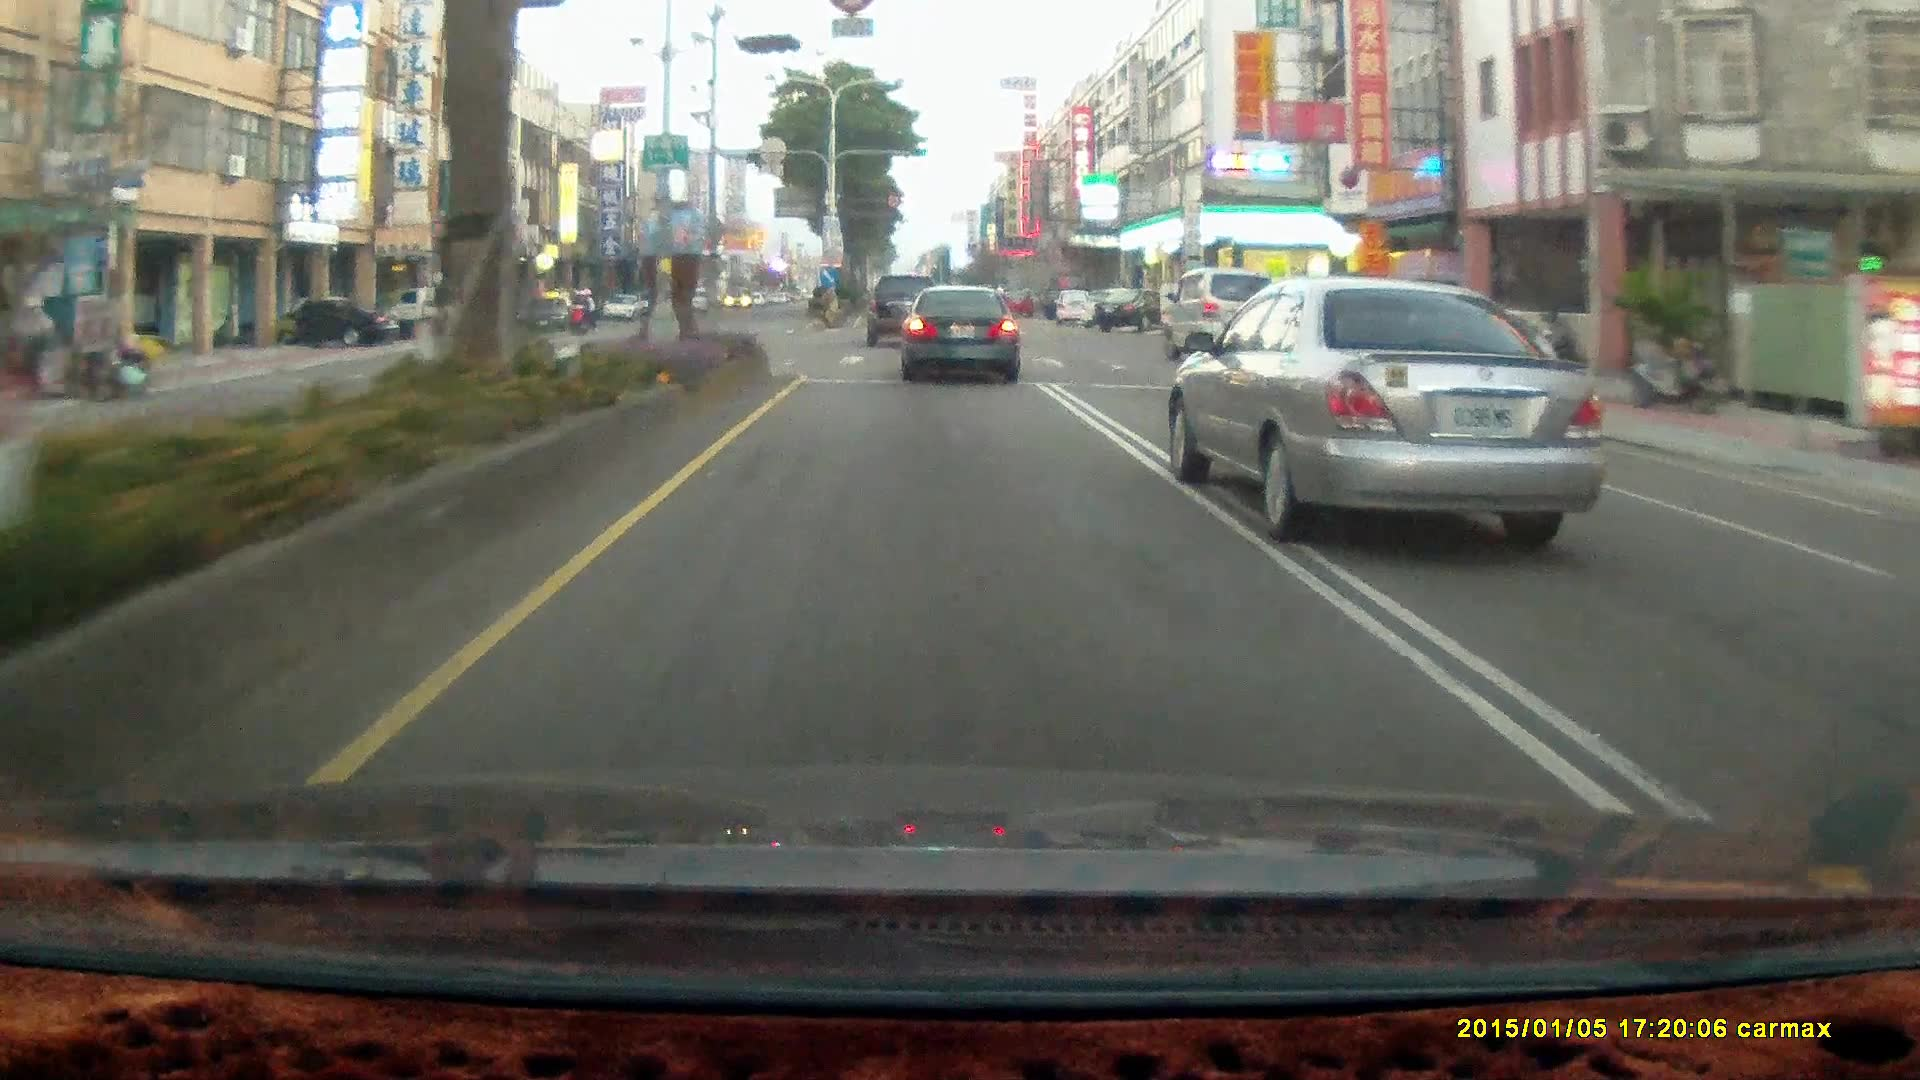rider: (568, 289, 597, 335)
vehicle: (1171, 276, 1623, 546), (899, 284, 1025, 387), (898, 284, 1019, 382), (1165, 269, 1282, 363), (1162, 265, 1277, 360), (250, 296, 390, 347), (284, 296, 399, 352), (865, 272, 943, 350), (390, 286, 493, 342), (866, 273, 942, 346), (380, 285, 485, 333), (1092, 287, 1173, 329), (1093, 285, 1148, 330), (521, 296, 577, 329), (1050, 287, 1095, 324), (608, 294, 645, 319)
